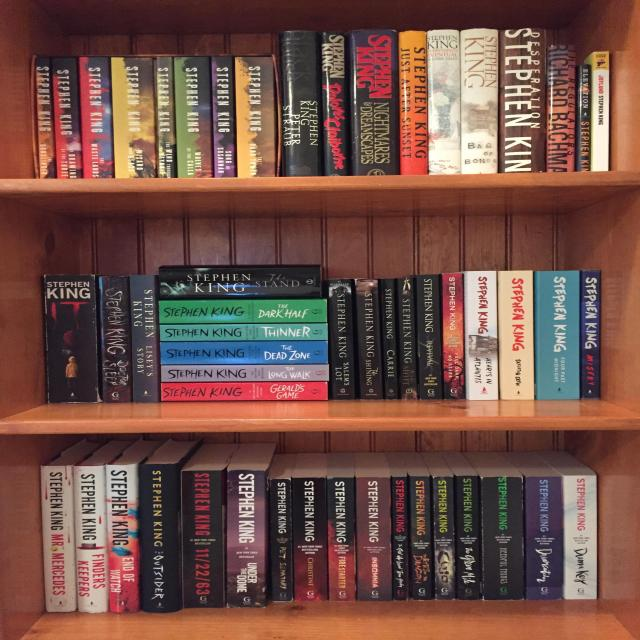book: (42, 274, 99, 403), (350, 30, 396, 175), (501, 28, 545, 173), (282, 31, 322, 176), (182, 472, 224, 608), (537, 270, 580, 399), (140, 466, 178, 611), (111, 57, 156, 178), (461, 28, 498, 173), (73, 465, 109, 612), (482, 477, 525, 599), (160, 266, 322, 298), (228, 470, 265, 608), (41, 465, 74, 612), (236, 58, 276, 178), (526, 478, 566, 598), (174, 57, 213, 178), (354, 477, 392, 600), (429, 30, 461, 173), (107, 465, 138, 612), (498, 271, 533, 400), (97, 275, 131, 402), (293, 478, 326, 601), (400, 30, 428, 174), (468, 271, 499, 400), (80, 57, 113, 178), (160, 342, 328, 364), (566, 476, 596, 599), (159, 301, 325, 323), (52, 58, 82, 179), (129, 276, 157, 402), (327, 278, 356, 398), (355, 279, 384, 399), (323, 31, 346, 176), (548, 45, 574, 172), (417, 274, 443, 399), (328, 478, 354, 600), (161, 382, 327, 400), (409, 476, 433, 600), (443, 273, 466, 399), (269, 479, 292, 602), (212, 56, 235, 178), (457, 477, 480, 599), (160, 324, 328, 340), (434, 476, 455, 599), (397, 276, 418, 399), (35, 58, 56, 178), (162, 366, 328, 381), (582, 269, 601, 400), (155, 57, 175, 178), (382, 278, 399, 399), (393, 477, 408, 600), (594, 52, 609, 171), (578, 64, 591, 171)
